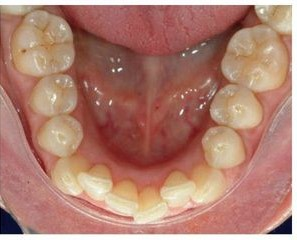LL1BC_healthy: (202, 126, 244, 167)
LL1M_healthy: (222, 26, 288, 89)
LL2BC_healthy: (209, 85, 261, 128)
LLCI_healthy: (136, 184, 167, 221)
LLC_healthy: (191, 166, 224, 201)
LLLI_healthy: (161, 172, 194, 205)
LR1BC_healthy: (40, 116, 83, 155)
LR1M_decay: (16, 12, 74, 73)
LR2BC_healthy: (31, 75, 77, 115)
LRCI_healthy: (109, 180, 140, 214)
LRC_healthy: (53, 158, 88, 195)
LRLI_healthy: (80, 164, 112, 198)
